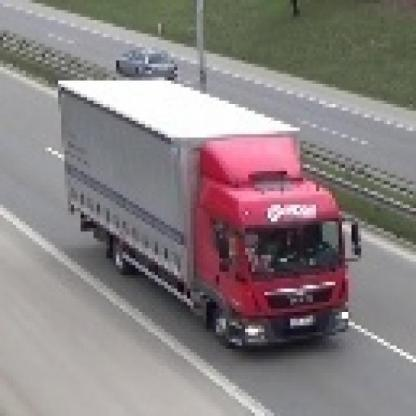truck: (59, 79, 362, 354)
